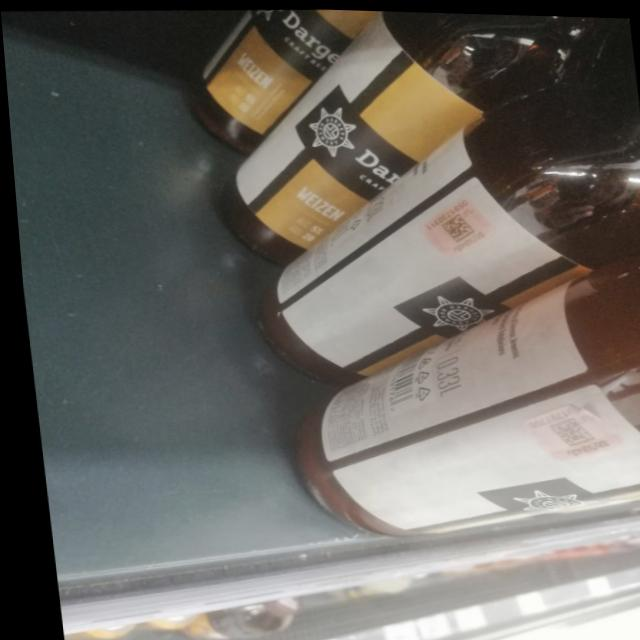datamatrix: (541, 412, 590, 447), (436, 211, 474, 243)
